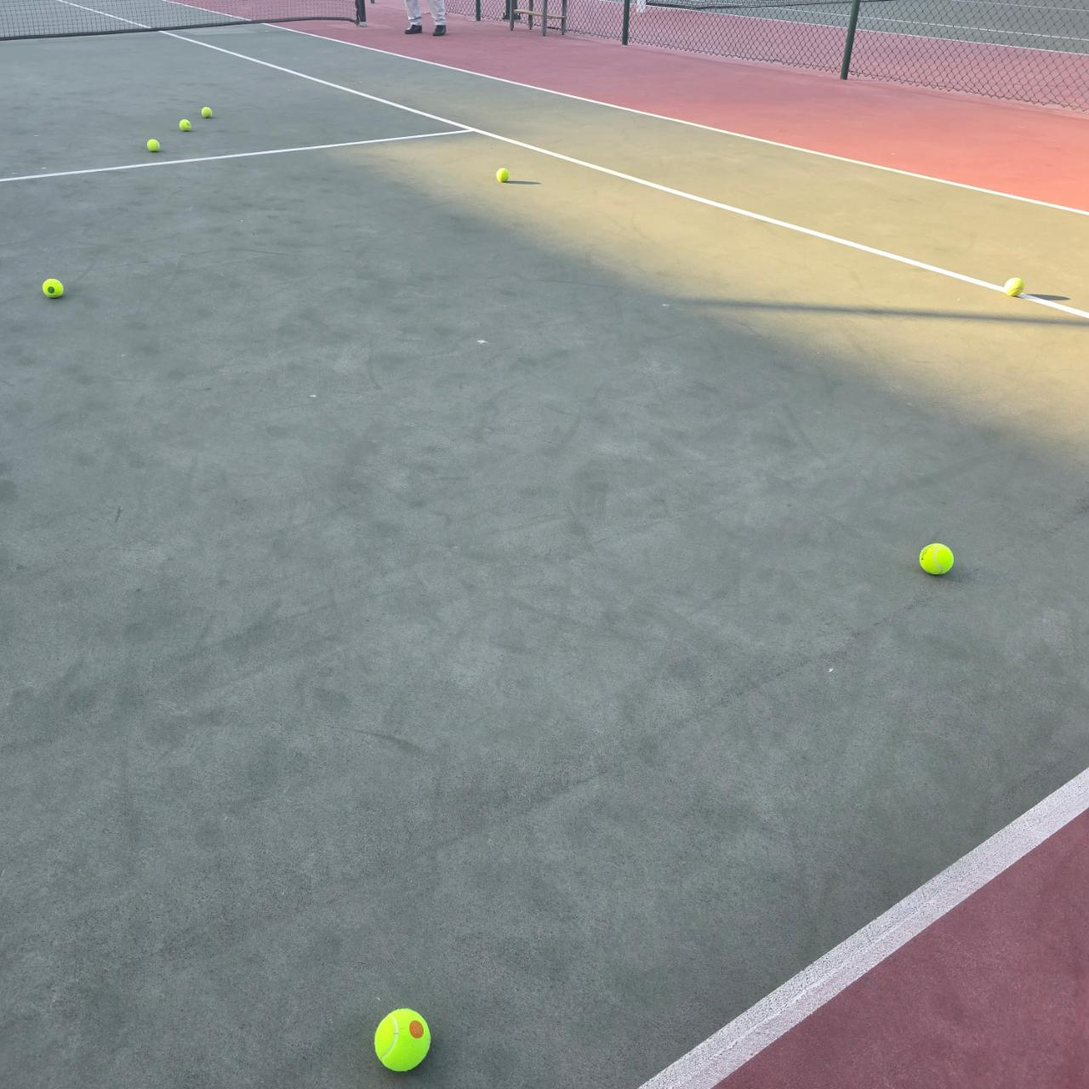tennis-ball: (372, 1005, 431, 1072), (917, 539, 955, 575), (41, 276, 64, 298), (1002, 275, 1023, 297), (495, 166, 510, 182), (145, 136, 160, 151), (178, 117, 191, 131), (199, 104, 213, 117)
